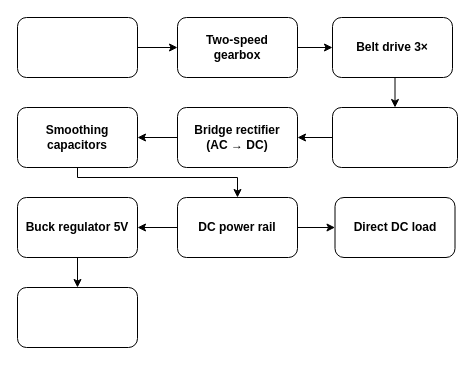
Some shapes in this 475 by 365 pixel diagram are drawn without their labels. The shapes that lost their labels are listed below. From the top down, each one's centre as x and y in pixels, then its label:
At [77,47]: "Hand crank".
At [395,137]: "Axial flux generator (3-phase AC)".
At [77,317]: "USB → Phone".
